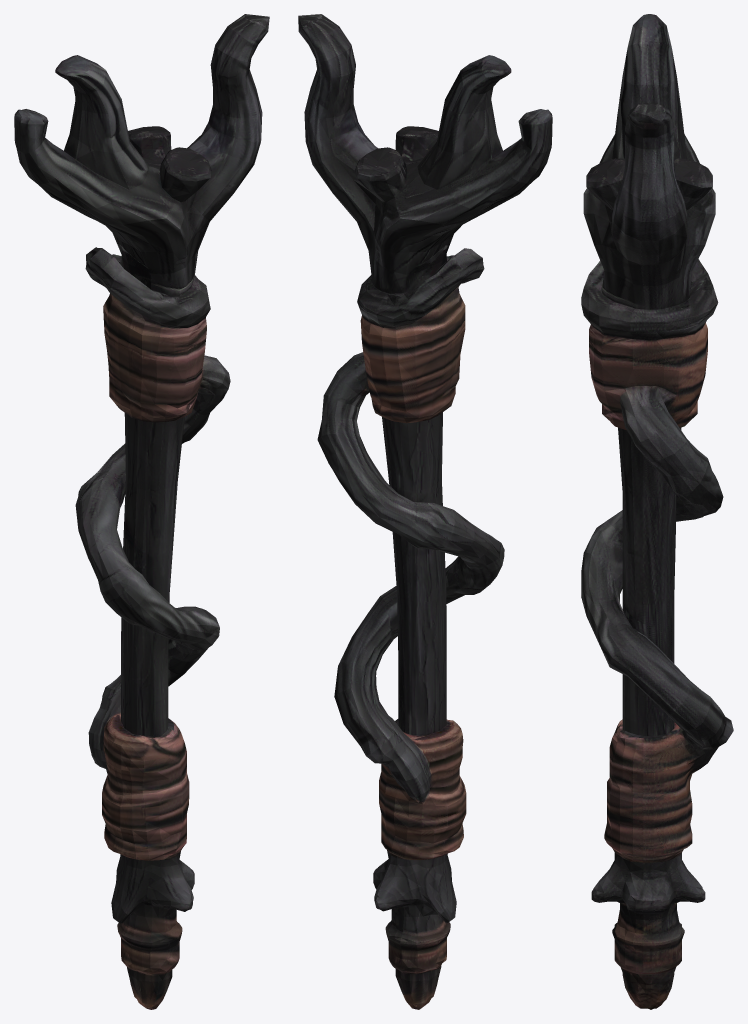
File: Staff.glb
3 renders of one model, left to right at view 1: azimuth 30°, elevation 25°; view 2: azimuth 150°, elevation 25°; view 3: azimuth 270°, elevation 25°, orthographic.
Visible parts, largest first — view 1: Staff; view 2: Staff; view 3: Staff.
Boxes of the visible parts, left/top/right/bottom form: Staff: left=14, top=14, right=269, bottom=1009; Staff: left=298, top=14, right=552, bottom=1009; Staff: left=581, top=14, right=733, bottom=1009.
Size of the model in its own units: 0.4344 by 1.6 by 0.2309.
Materials: 1 (1 with a texture image).
